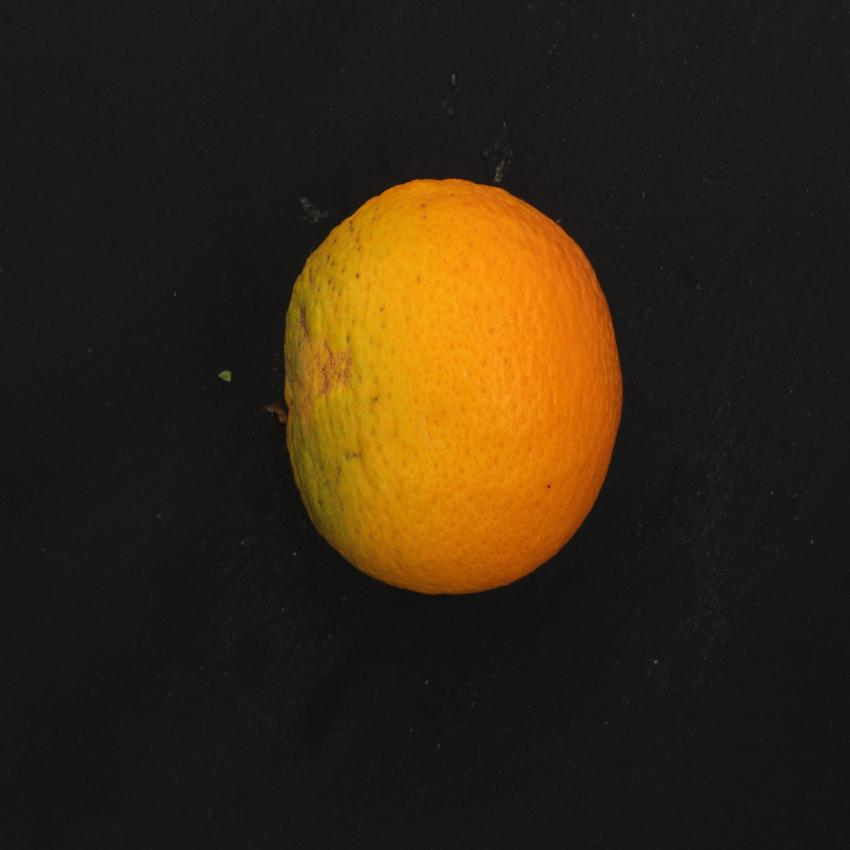Buen estado: (266, 171, 628, 621)
